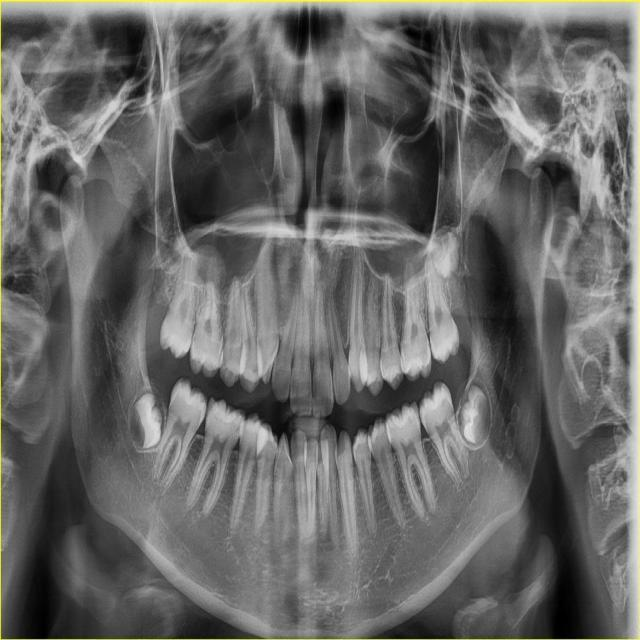Sterngold Implant: (190, 331, 200, 347), (307, 383, 313, 404), (312, 385, 318, 403), (234, 422, 241, 437), (329, 383, 335, 398), (407, 413, 415, 424), (439, 398, 446, 408), (420, 413, 423, 423), (417, 413, 420, 422)
